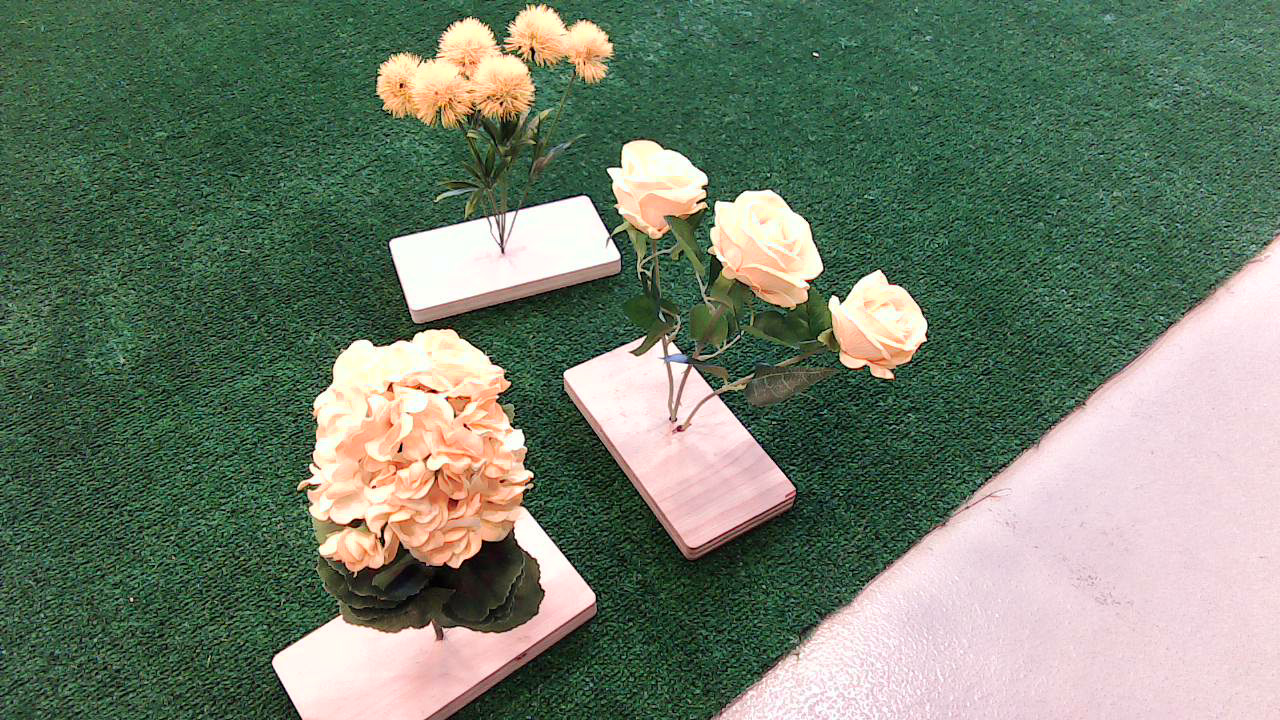dandelion: (334, 12, 609, 229)
geranium: (304, 331, 570, 653)
rose: (611, 145, 939, 448)
